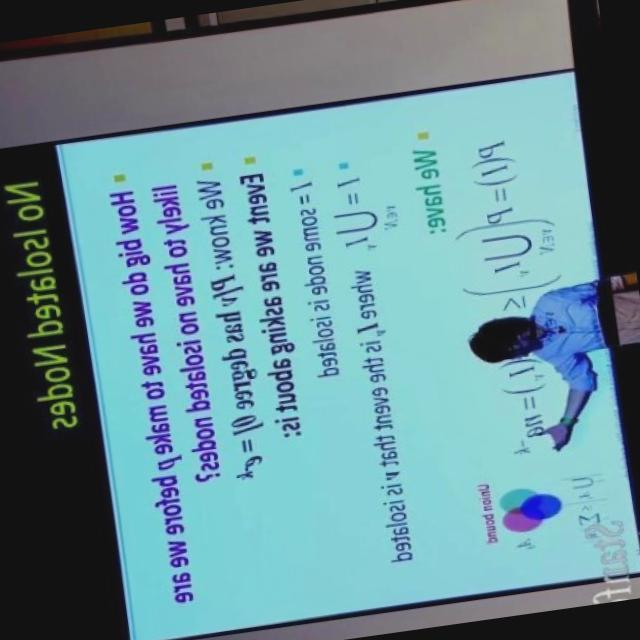Instructor: (435, 252, 640, 390)
Slide: (0, 71, 640, 640)
